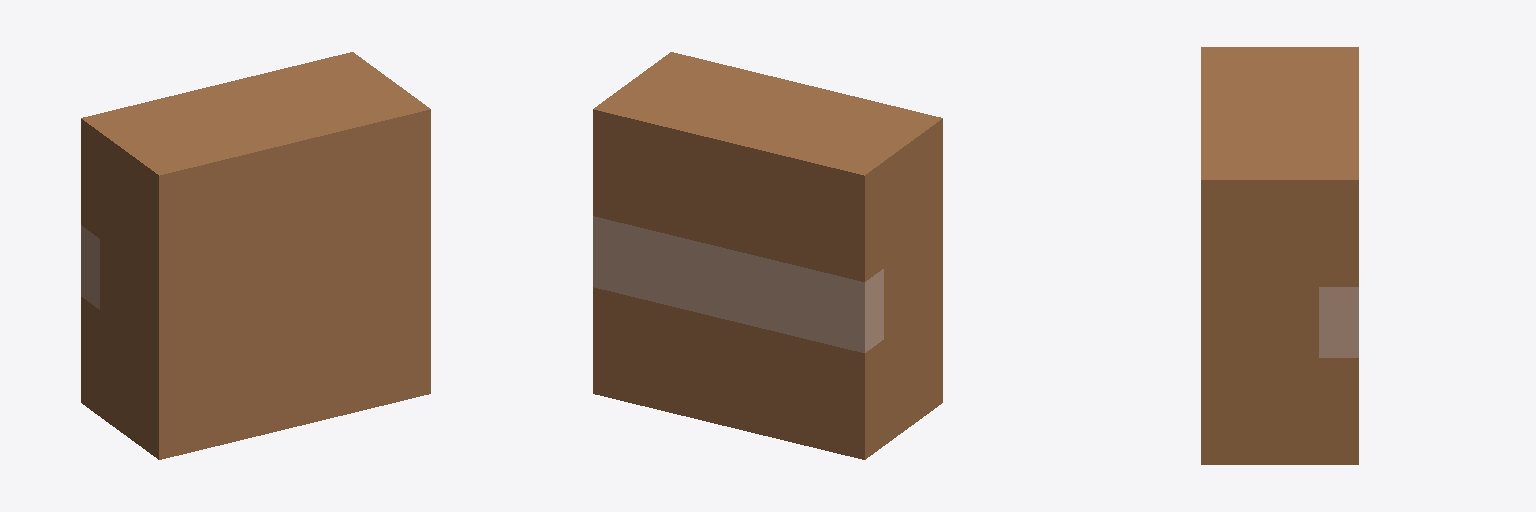
3 renders of one model, left to right at view 1: azimuth 30°, elevation 25°; view 2: azimuth 150°, elevation 25°; view 3: azimuth 270°, elevation 25°, orthographic.
Visible parts, largest first — view 1: object 1; view 2: object 1; view 3: object 1.
Part boxes in pixels (left/top/right/bottom): object 1: left=81, top=52, right=430, bottom=459; object 1: left=593, top=52, right=942, bottom=459; object 1: left=1201, top=47, right=1358, bottom=464.
Size of the model in its own units: 0.8 by 0.8 by 0.4.
1 materials, 1 textured.